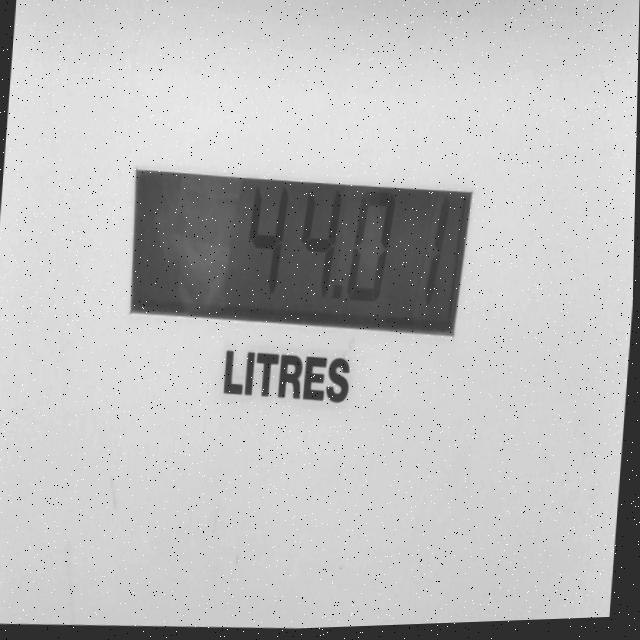.: (329, 272, 349, 315)
0: (345, 186, 407, 326)
1: (418, 194, 460, 309)
4: (293, 188, 354, 313), (241, 178, 296, 306)
